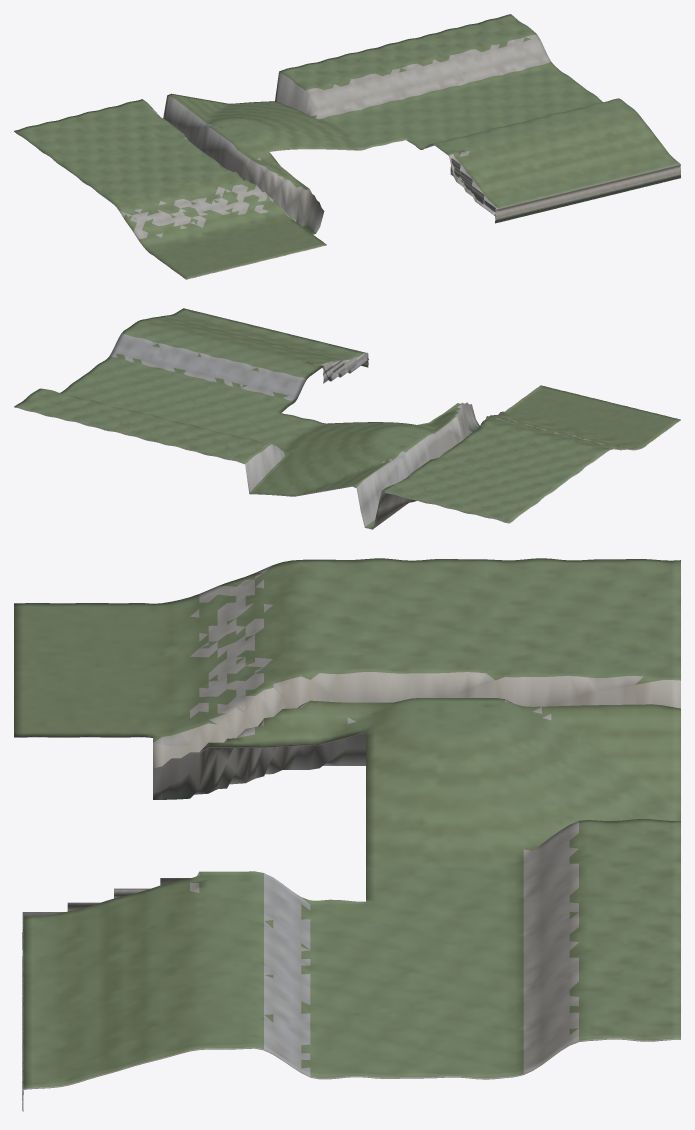
Rendered from rock.glb.
3 renders of one model, top to bottom at view 1: azimuth 30°, elevation 25°; view 2: azimuth 150°, elevation 25°; view 3: azimuth 270°, elevation 25°, orthographic. The views are drawn at different scales.
Visible parts, largest first — view 1: rock, north_shore; view 2: rock; view 3: rock.
Part boxes in pixels (box(x1,y1,x2,y2)): rock: box(14, 14, 679, 279); north_shore: box(495, 164, 680, 223); rock: box(14, 308, 680, 529); rock: box(14, 558, 680, 1089).
Size of the model in its own units: 1200 by 106 by 720.
